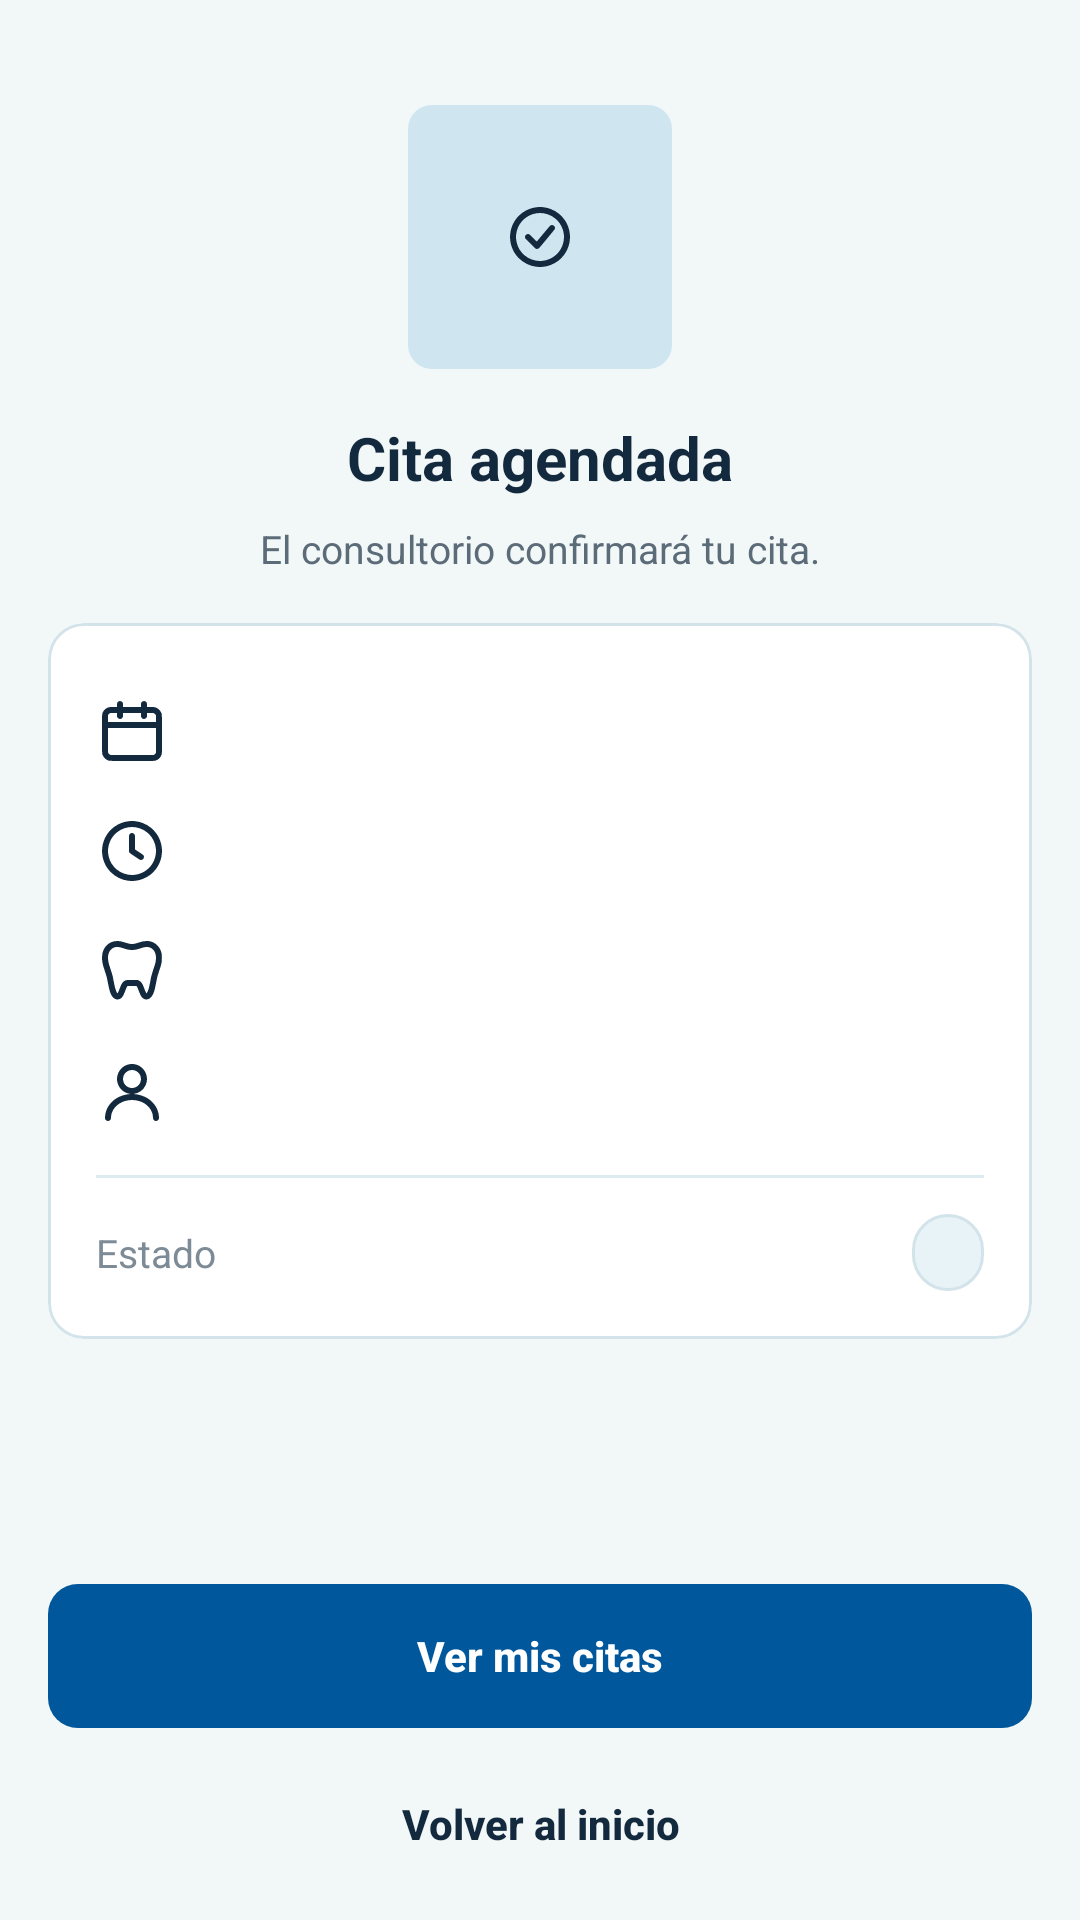

Icons on this 1080×1920 Android screen, each with its box as (x1, y1, x2, y2):
exito: (408, 105, 672, 369)
